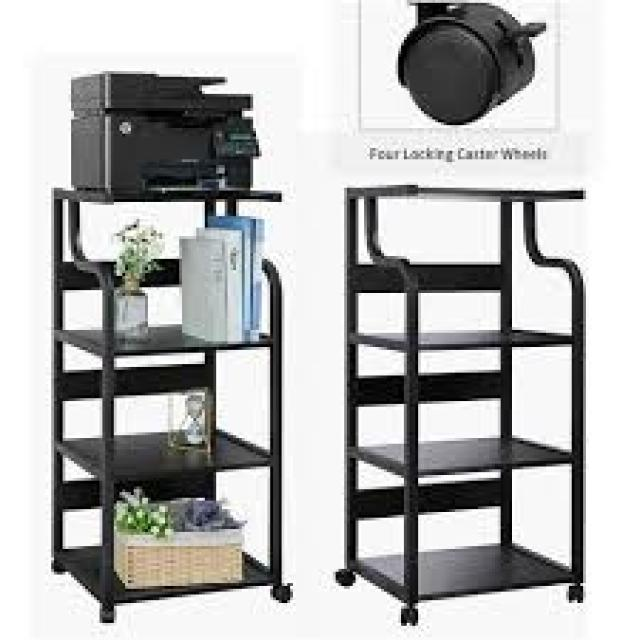printer: (68, 68, 259, 194)
